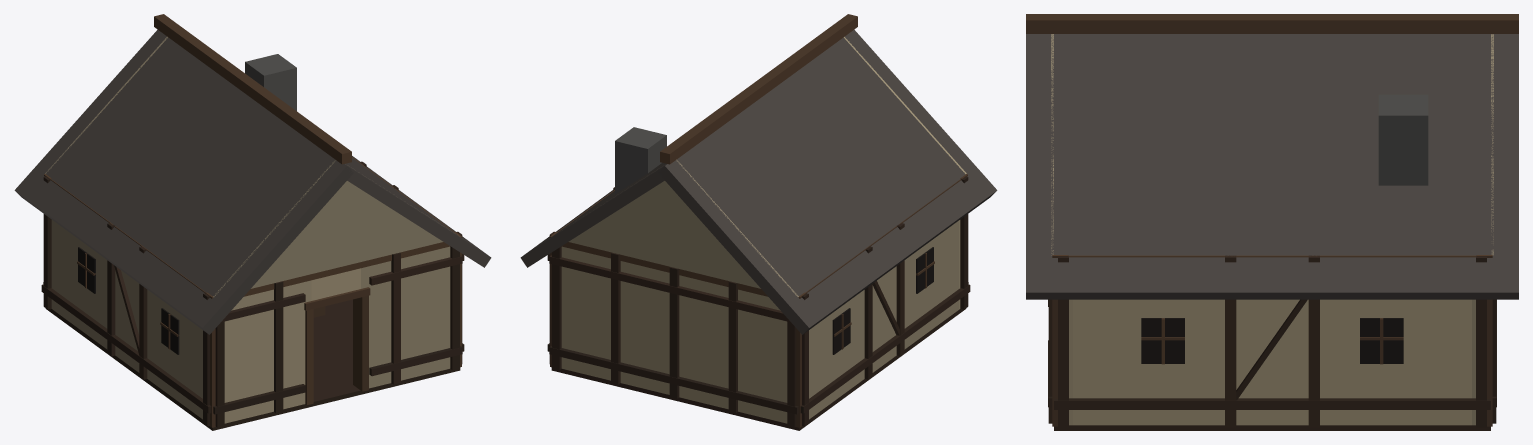
File: walk_hallowed_house.glb
3 views of the same model, side by side, from view 1: azimuth 30°, elevation 25°; view 2: azimuth 150°, elevation 25°; view 3: azimuth 270°, elevation 25° (orthographic). The views are drawn at different scales.
Parts seen in each view (by area): view 1: walk_hallowed_house_roof, walk_hallowed_house; view 2: walk_hallowed_house_roof, walk_hallowed_house; view 3: walk_hallowed_house_roof, walk_hallowed_house.
Boxes of the visible parts, x1=… form: walk_hallowed_house_roof: x1=14, y1=14, x2=491, y2=334; walk_hallowed_house: x1=41, y1=157, x2=464, y2=430; walk_hallowed_house_roof: x1=520, y1=14, x2=997, y2=334; walk_hallowed_house: x1=547, y1=174, x2=970, y2=430; walk_hallowed_house_roof: x1=1026, y1=14, x2=1518, y2=299; walk_hallowed_house: x1=1048, y1=255, x2=1496, y2=430.
Size of what is drawn, in the model's own units: 7 by 5.92 by 7.9.
Materials: 2 (2 with a texture image).
